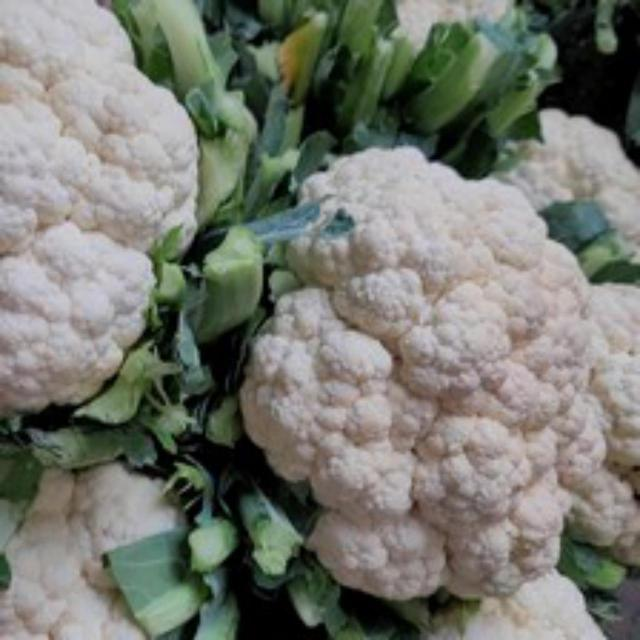cauliflower: (242, 138, 640, 617)
